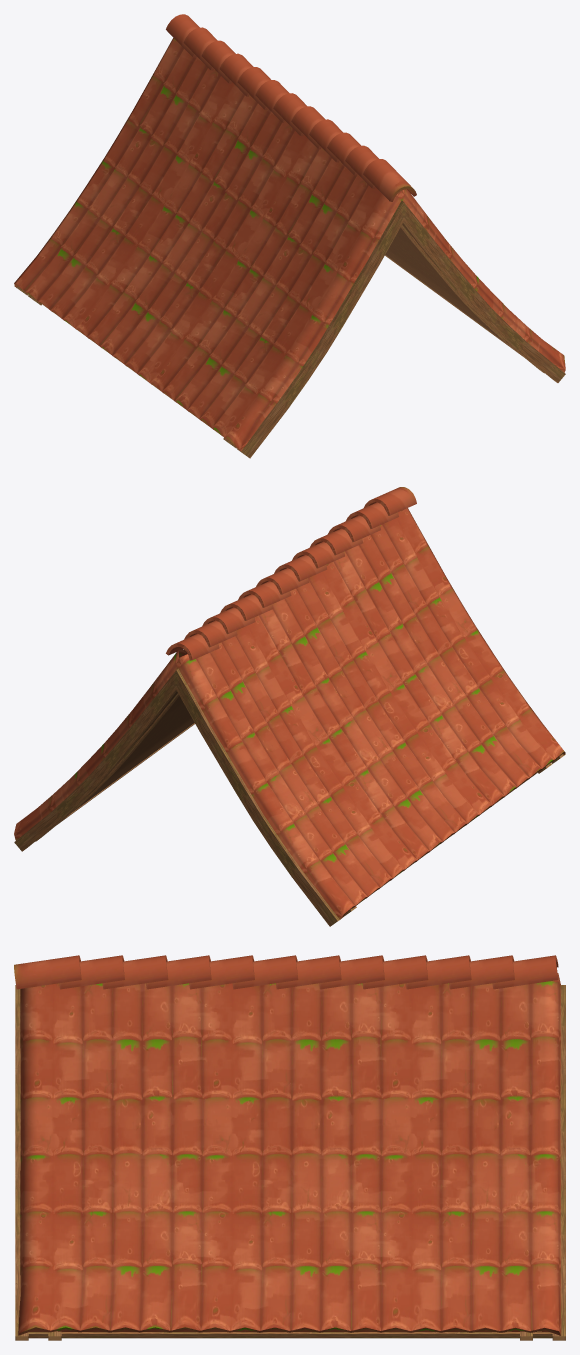
The model's file is Roof_RoundTiles_6x8.glb.
3 views of the same model, one above another, from view 1: azimuth 30°, elevation 25°; view 2: azimuth 150°, elevation 25°; view 3: azimuth 270°, elevation 25° (orthographic). The views are drawn at different scales.
Parts seen in each view (by area): view 1: Roof_RoundTiles_6x8; view 2: Roof_RoundTiles_6x8; view 3: Roof_RoundTiles_6x8.
Boxes of the visible parts, x1,y1,x2,y2 form: Roof_RoundTiles_6x8: [14, 14, 565, 458]; Roof_RoundTiles_6x8: [14, 487, 565, 926]; Roof_RoundTiles_6x8: [14, 955, 565, 1340].
Size of the model in its own units: 8.25 by 5.67 by 9.68.
2 materials, 2 textured.
